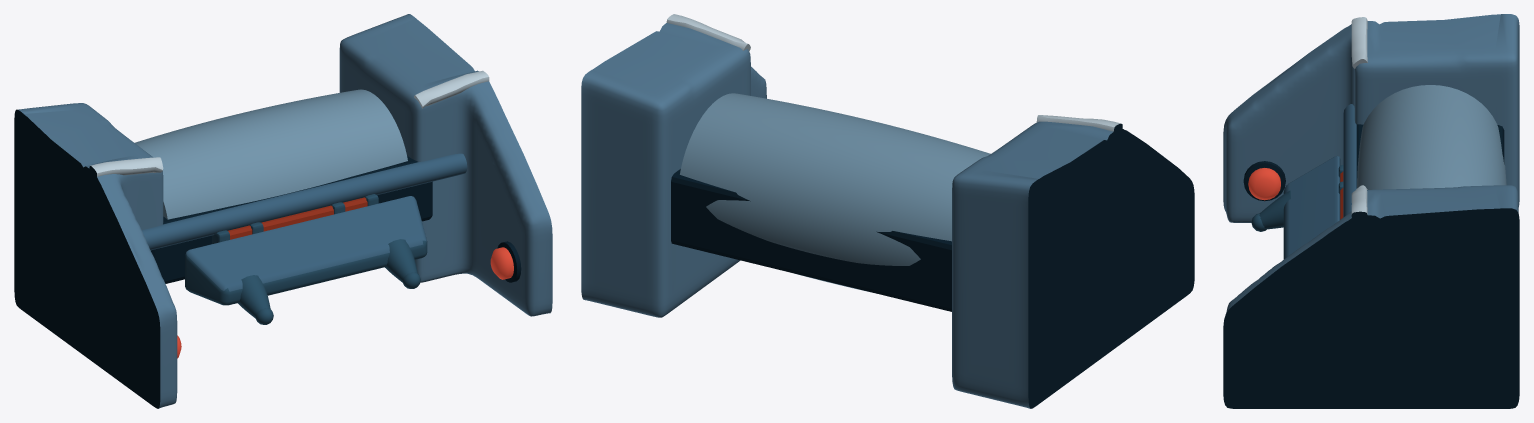
Rendered from arm_bridge.glb.
3 views of the same model, side by side, from view 1: azimuth 30°, elevation 25°; view 2: azimuth 150°, elevation 25°; view 3: azimuth 270°, elevation 25° (orthographic). The views are drawn at different scales.
Visible parts, largest first — view 1: housing1.001, housing-1.001, saddle.001, lip.001, ledge.001, core.001, vent.001, crease-1.001, crease1.001, lamp-1.001, fang-1.001, fang1.001; view 2: housing1.001, saddle.001, housing-1.001, core.001, crease-1.001, crease1.001; view 3: housing-1.001, housing1.001, saddle.001, lip.001, ledge.001, lamp1.001, crease1.001, fang-1.001, crease-1.001, core.001.
Part boxes in pixels (<box>): housing1.001: <box>14,103,177,408</box>; housing-1.001: <box>339,14,552,316</box>; saddle.001: <box>135,89,407,219</box>; lip.001: <box>185,196,427,305</box>; ledge.001: <box>142,153,467,250</box>; core.001: <box>151,156,432,283</box>; vent.001: <box>228,197,367,239</box>; crease-1.001: <box>414,70,489,108</box>; crease1.001: <box>89,157,163,179</box>; lamp-1.001: <box>490,241,521,282</box>; fang-1.001: <box>238,275,270,318</box>; fang1.001: <box>385,239,417,282</box>; housing1.001: <box>952,121,1194,408</box>; saddle.001: <box>680,93,990,292</box>; housing-1.001: <box>581,23,766,317</box>; core.001: <box>671,169,951,311</box>; crease-1.001: <box>666,14,750,51</box>; crease1.001: <box>1036,115,1122,136</box>; housing-1.001: <box>1223,185,1519,408</box>; housing1.001: <box>1223,14,1519,222</box>; saddle.001: <box>1357,85,1506,189</box>; lip.001: <box>1283,156,1340,259</box>; ledge.001: <box>1343,104,1356,217</box>; lamp1.001: <box>1243,161,1285,201</box>; crease1.001: <box>1351,17,1367,68</box>; fang-1.001: <box>1259,190,1290,229</box>; crease-1.001: <box>1351,185,1367,222</box>; core.001: <box>1356,124,1504,188</box>.
Bounding box in the file's own units: 24 × 11.56 × 15.47.
